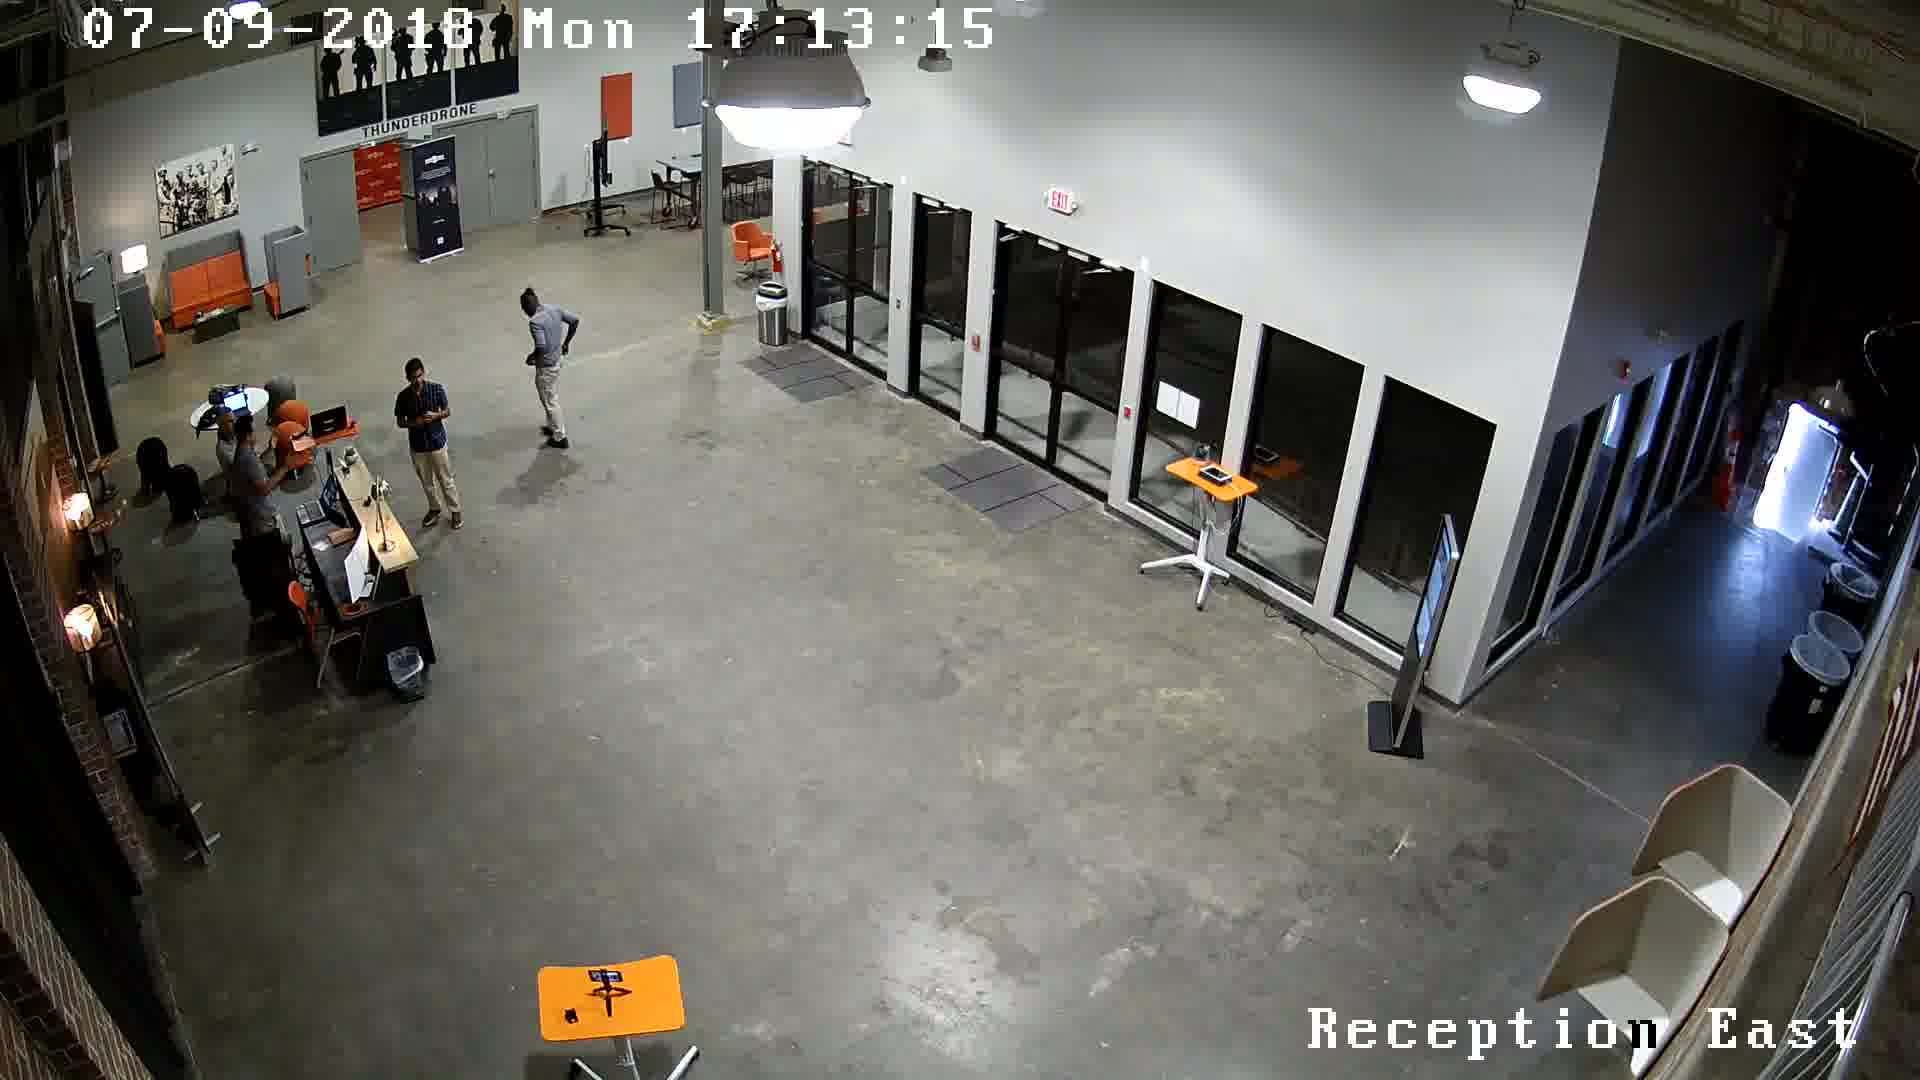pistol: (407, 411, 440, 433)
